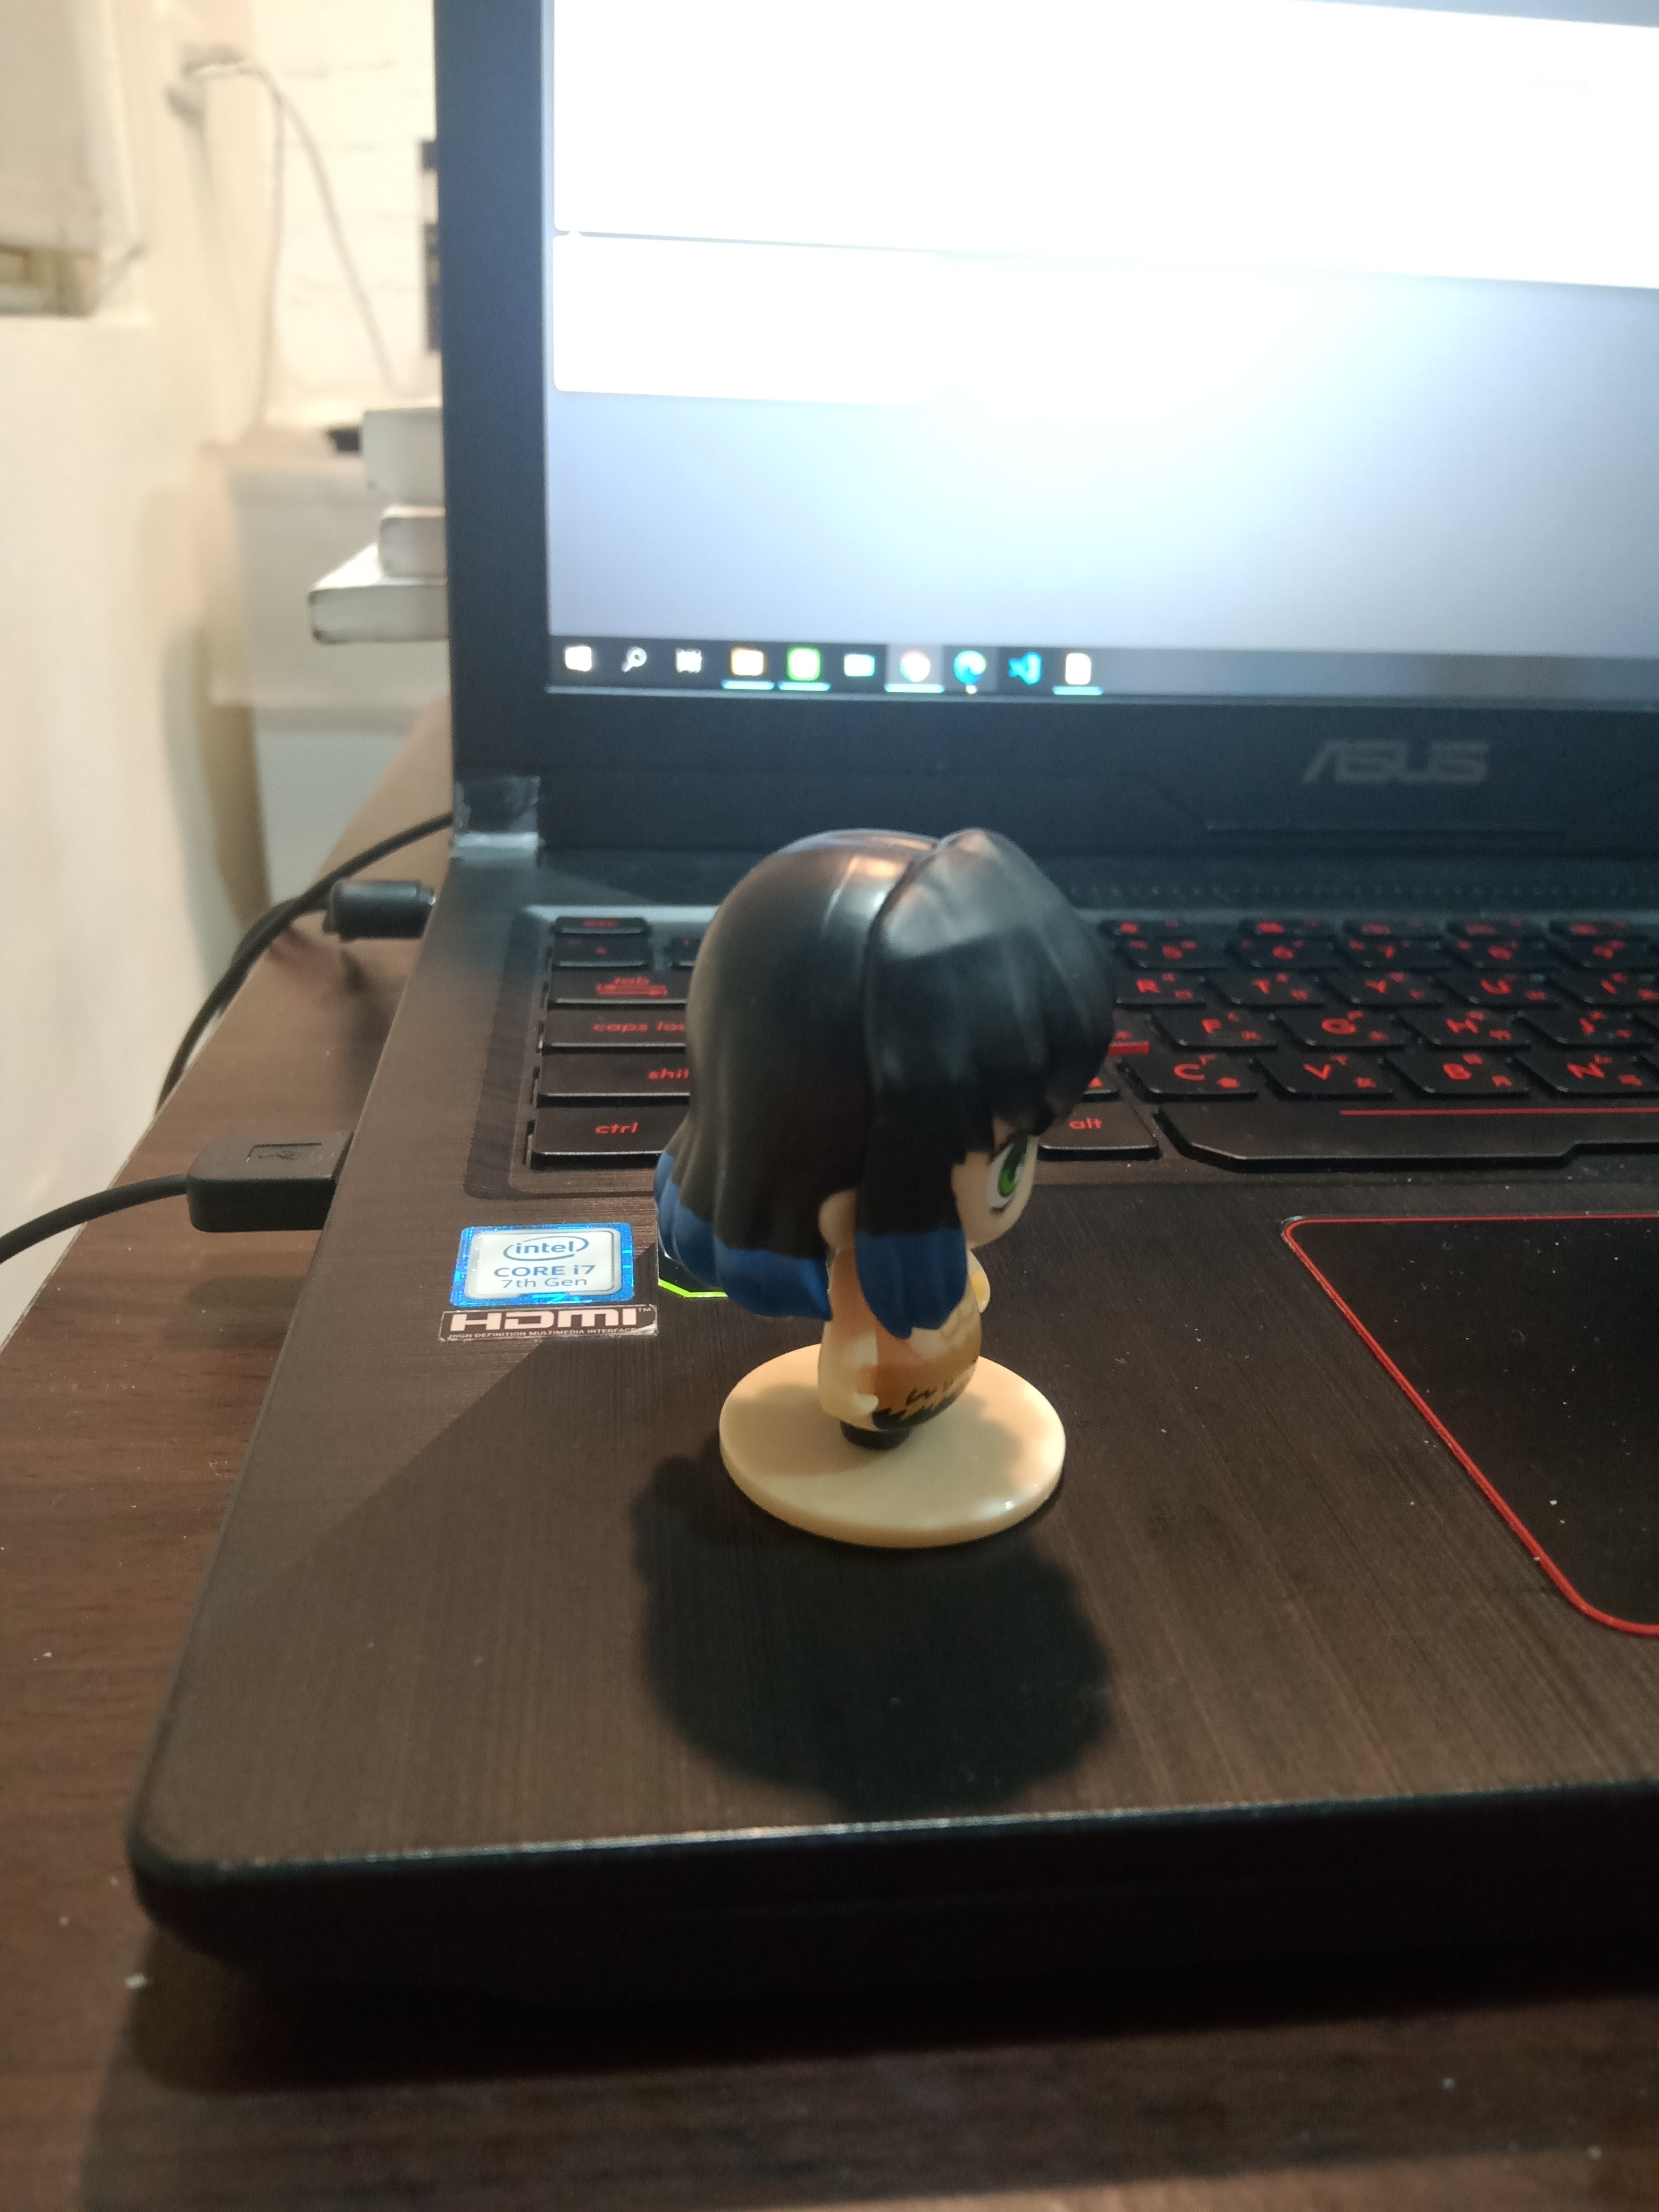Inosuke: (634, 815, 1129, 1566)
